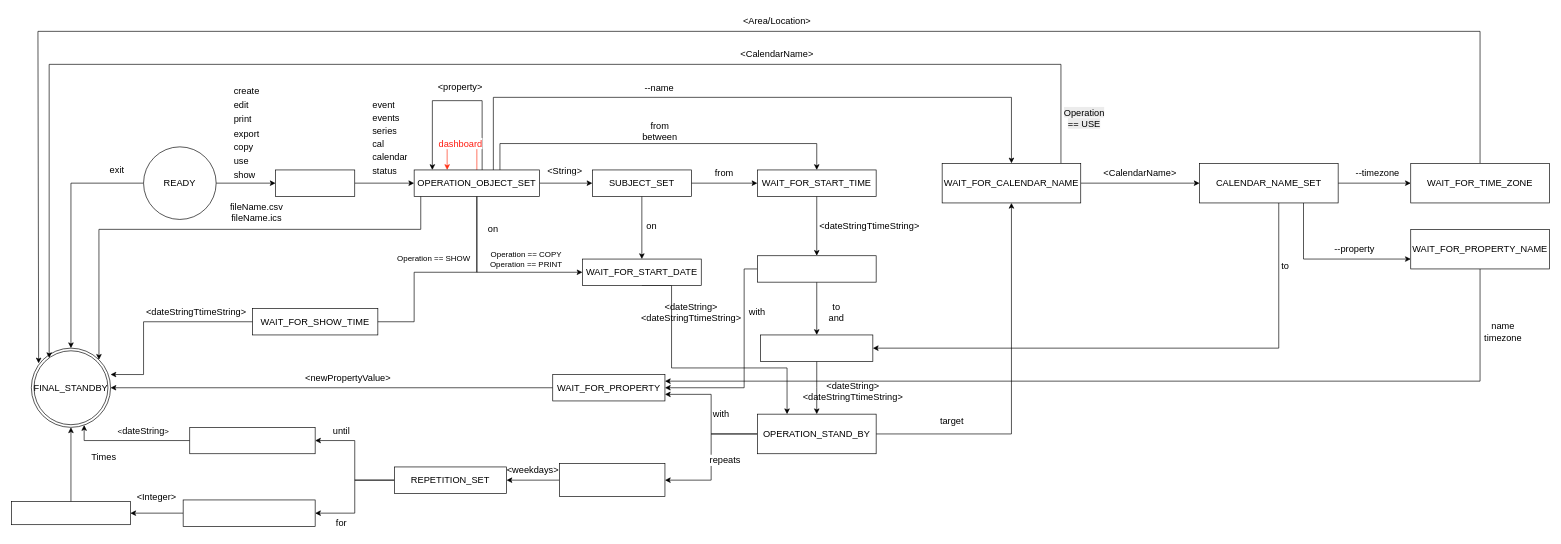
Image size: 1561x544. Some labels were removed from this diagram. Each missing label, with the centre of its shape:
OPERATION_SET: (315,182)
START_TIME_SET: (816,268)
WAIT_DATE_REPEAT: (252,440)
WAIT_EXTRA_PARAM: (612,480)
WAIT_FOR_END_TIME: (816,347)
WAIT_REPEAT_PHRASE: (70,513)
WAIT_TIMES_FOR_REPEAT: (248,512)
